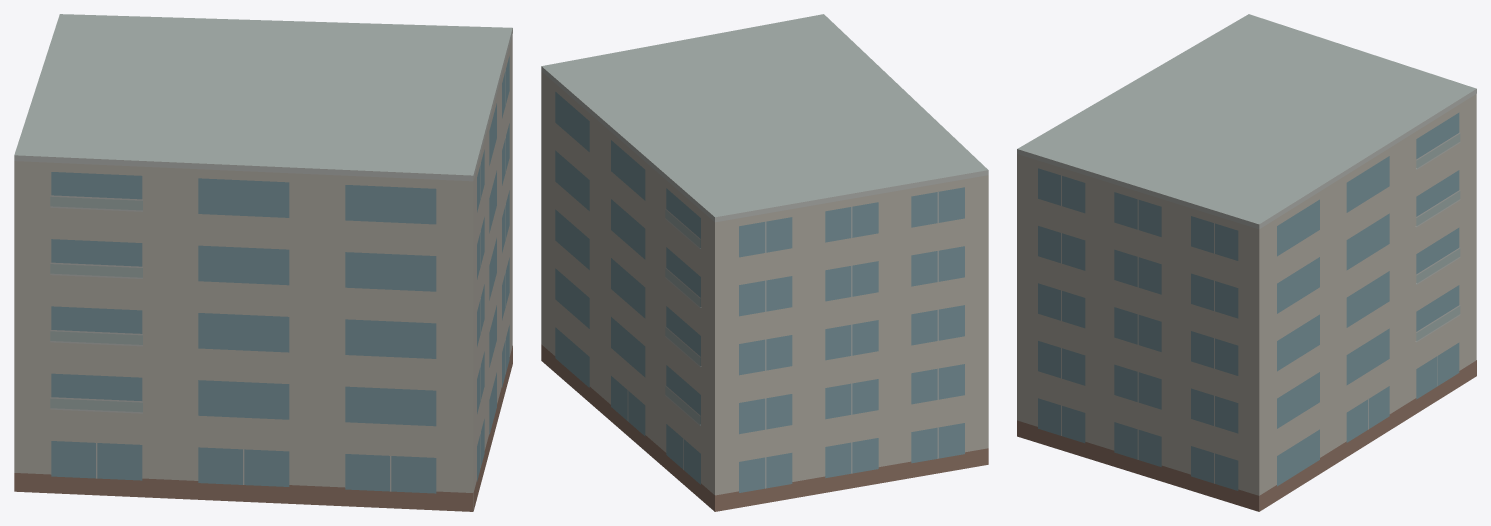
File: survey-upis-32503563.glb
3 renders of one model, left to right at view 1: azimuth 30°, elevation 25°; view 2: azimuth 150°, elevation 25°; view 3: azimuth 270°, elevation 25°, orthographic. The views are drawn at different scales.
Visible parts, largest first — view 1: survey-upis-32503563.tmp; view 2: survey-upis-32503563.tmp; view 3: survey-upis-32503563.tmp.
Boxes of the visible parts, <box> form: survey-upis-32503563.tmp: <box>14,14,512,511</box>; survey-upis-32503563.tmp: <box>541,14,988,511</box>; survey-upis-32503563.tmp: <box>1017,14,1476,511</box>.
Size of the model in its own units: 22.3 by 14.2 by 20.59.
